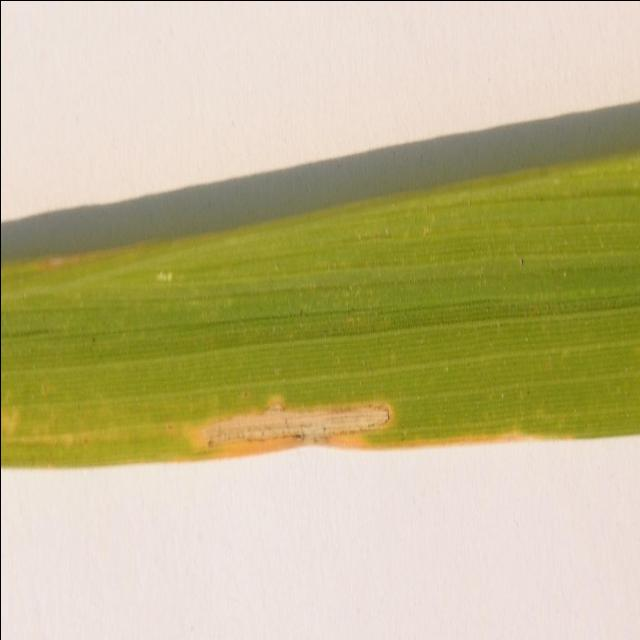Bacterial_Leaf_Blight: (0, 316, 574, 506)
